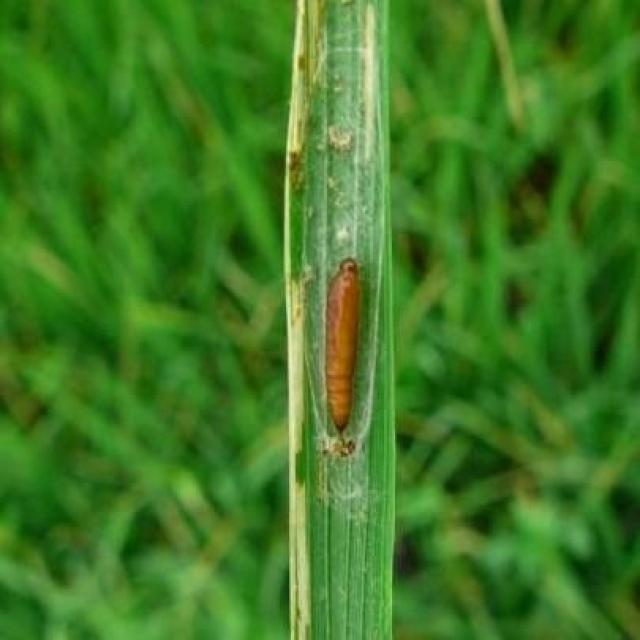peach borer: (324, 256, 367, 448)
